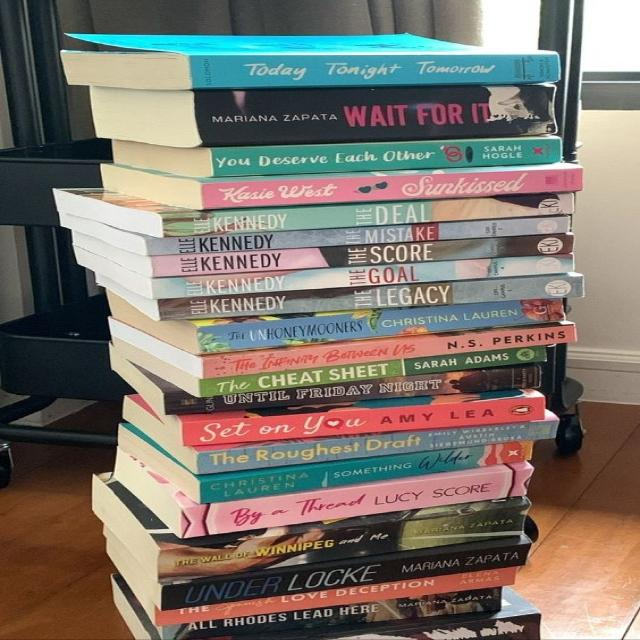book: (158, 503, 530, 583), (161, 544, 531, 612), (180, 469, 533, 539), (193, 87, 558, 146), (200, 439, 531, 504), (199, 298, 567, 356), (204, 324, 579, 380), (156, 568, 515, 625), (197, 420, 559, 474), (157, 277, 584, 321), (162, 194, 575, 238), (198, 346, 547, 398), (163, 367, 541, 415), (152, 235, 573, 277), (163, 588, 501, 640), (182, 397, 543, 445), (150, 257, 574, 297), (143, 217, 570, 256), (202, 169, 583, 210), (209, 138, 563, 177), (187, 55, 558, 89)
